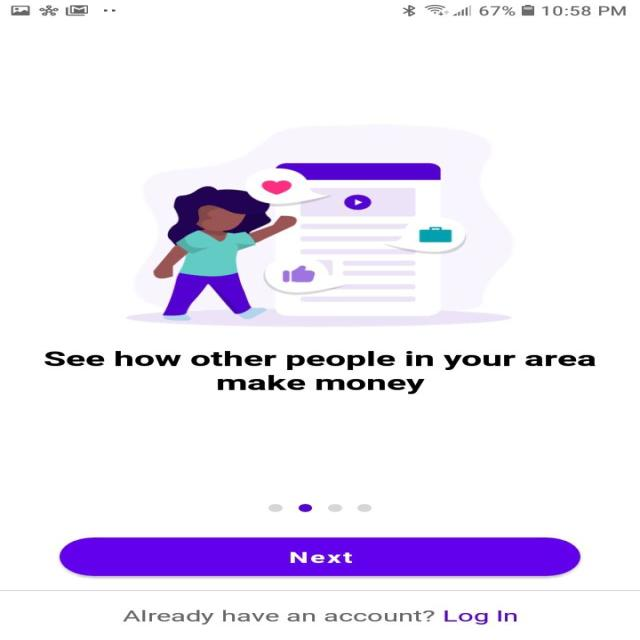Image: (124, 124, 514, 327)
Text: (43, 350, 596, 394), (121, 609, 516, 624)
TextButton: (58, 536, 580, 576)
